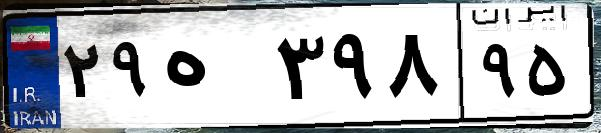2: (57, 26, 110, 100)
3: (270, 28, 330, 110)
5: (525, 38, 570, 115)
8: (385, 28, 445, 110)
9: (330, 28, 385, 110), (475, 38, 525, 113), (110, 28, 158, 98)
ه: (158, 20, 270, 120)
